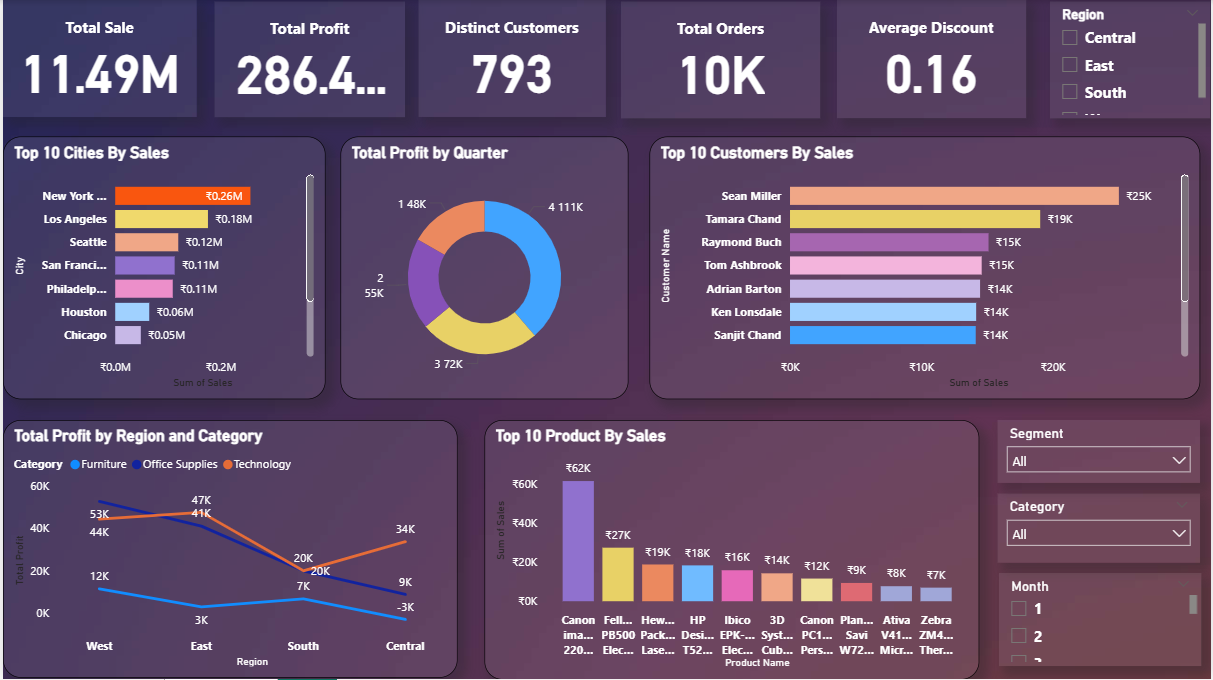

The dashboard page shown, as its layout file describes it:
{"tool":"powerbi","page":{"name":"Page 1","canvas":[1280,720],"ordinal":0},"visuals":[{"type":"cardVisual","fields":{"Data":["Sample_-_Superstore[1].Sum Of Sales"]},"box":[0,0,205.2,124.1],"z":0},{"type":"cardVisual","fields":{"Data":["Sample_-_Superstore[1].Total Profit"]},"box":[224.3,1.6,202,122.5],"z":1000},{"type":"cardVisual","fields":{"Data":["Sample_-_Superstore[1].Distinct Customers"]},"box":[440.6,0,198.8,124.1],"z":2000},{"type":"cardVisual","fields":{"Data":["Sample_-_Superstore[1].Total Orders"]},"box":[655.3,1.6,211.6,124.1],"z":3000},{"type":"cardVisual","fields":{"Data":["Sample_-_Superstore[1].Average Discount"]},"box":[884.4,0,200.4,125.7],"z":4000},{"type":"clusteredBarChart","title":"Top 10 Cities By Sales","fields":{"Category":["Sample_-_Superstore[1].City"],"Y":["Sum(Sample_-_Superstore[1].Sales)"]},"box":[0,144.7,342,278.4],"z":5000},{"type":"clusteredBarChart","title":"Top 10 Customers By Sales","fields":{"Category":["Sample_-_Superstore[1].Customer Name"],"Y":["Sum(Sample_-_Superstore[1].Sales)"]},"box":[685.6,144.7,583.8,278.4],"z":6000},{"type":"columnChart","title":"Top 10 Product By Sales","fields":{"Category":["Sample_-_Superstore[1].Product Name"],"Y":["Sum(Sample_-_Superstore[1].Sales)"]},"box":[510.6,445.4,524.9,275.2],"z":7000},{"type":"slicer","fields":{"Values":["Sample_-_Superstore[1].Region"]},"box":[1110.2,1.6,170.2,124.1],"z":9000},{"type":"slicer","fields":{"Values":["Sample_-_Superstore[1].Category"]},"box":[1054.6,523.3,214.7,73.2],"z":10000},{"type":"slicer","fields":{"Values":["Date Table.Month"]},"box":[1056.2,607.6,214.7,98.6],"z":11000},{"type":"slicer","fields":{"Values":["Sample_-_Superstore[1].Segment"]},"box":[1054.6,445.4,214.7,66.8],"z":12000},{"type":"lineChart","fields":{"Category":["Sample_-_Superstore[1].Region"],"Y":["Sample_-_Superstore[1].Total Profit"],"Series":["Sample_-_Superstore[1].Category"]},"box":[0,445.4,482,273.6],"z":13000},{"type":"donutChart","fields":{"Category":["Date Table.Quarter"],"Y":["Sample_-_Superstore[1].Total Profit"]},"box":[357.9,144.7,305.4,278.4],"z":14000}]}

Visuals, with their boxes in screenshot pixels (x1, y1, x2, y2), scaled from the page's 1280x720 canvas onto the 1213x680 screenshot:
cardVisual - Sample_-_Superstore[1].Sum Of Sales: bbox=[0, 0, 194, 117]
cardVisual - Sample_-_Superstore[1].Total Profit: bbox=[213, 2, 404, 117]
cardVisual - Sample_-_Superstore[1].Distinct Customers: bbox=[418, 0, 606, 117]
cardVisual - Sample_-_Superstore[1].Total Orders: bbox=[621, 2, 822, 119]
cardVisual - Sample_-_Superstore[1].Average Discount: bbox=[838, 0, 1028, 119]
"Top 10 Cities By Sales" clusteredBarChart: bbox=[0, 137, 324, 400]
"Top 10 Customers By Sales" clusteredBarChart: bbox=[650, 137, 1203, 400]
"Top 10 Product By Sales" columnChart: bbox=[484, 421, 981, 679]
slicer - Sample_-_Superstore[1].Region: bbox=[1052, 2, 1212, 119]
slicer - Sample_-_Superstore[1].Category: bbox=[999, 494, 1203, 563]
slicer - Date Table.Month: bbox=[1001, 574, 1204, 667]
slicer - Sample_-_Superstore[1].Segment: bbox=[999, 421, 1203, 484]
lineChart - Sample_-_Superstore[1].Region x Sample_-_Superstore[1].Total Profit: bbox=[0, 421, 457, 679]
donutChart - Date Table.Quarter x Sample_-_Superstore[1].Total Profit: bbox=[339, 137, 629, 400]
